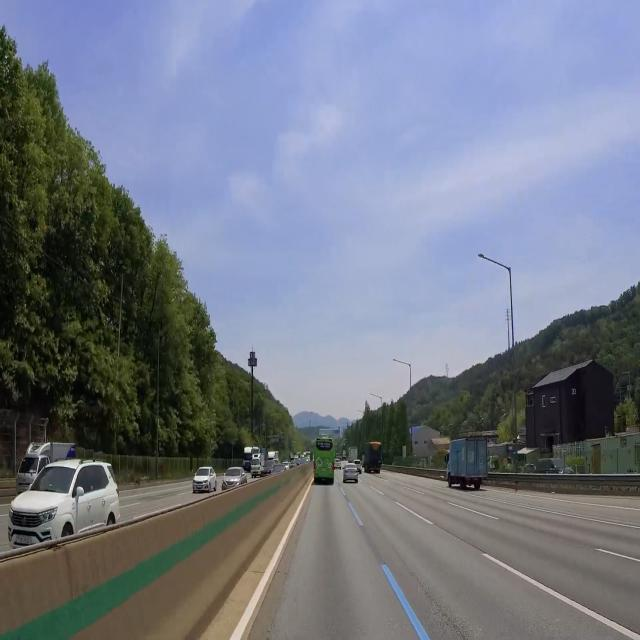car: (13, 532, 32, 548), (320, 465, 327, 478)
